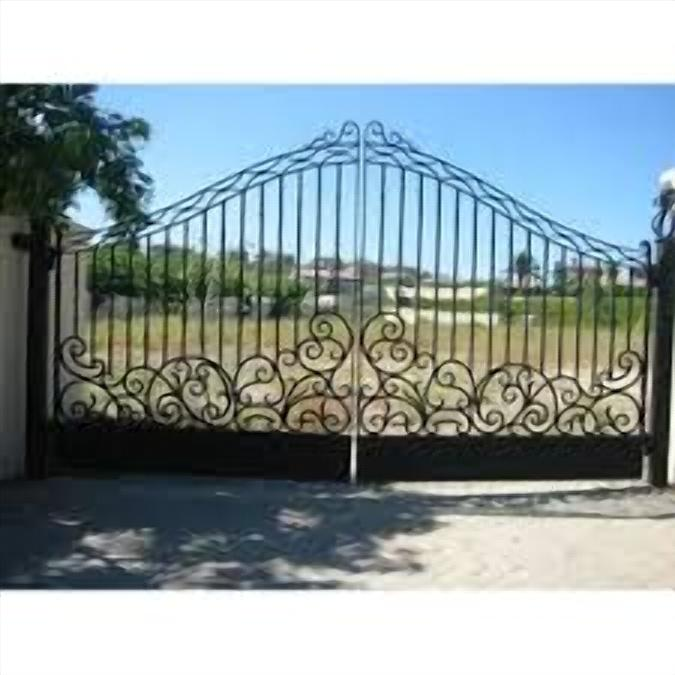Gate: (17, 119, 675, 487)
